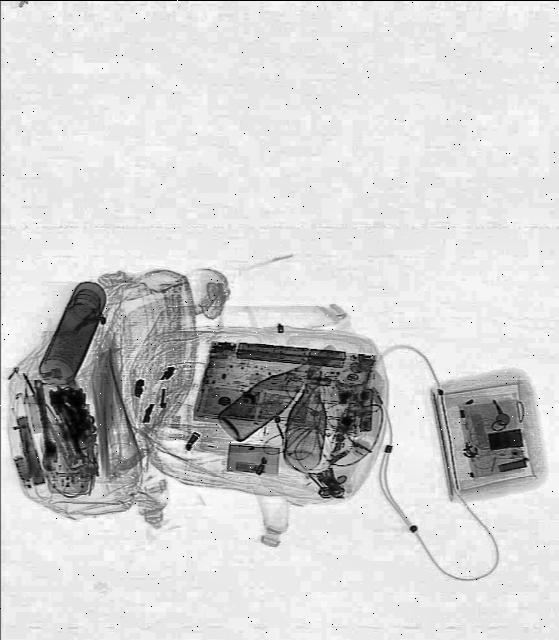Wrench: (28, 376, 60, 472), (68, 431, 86, 463)
